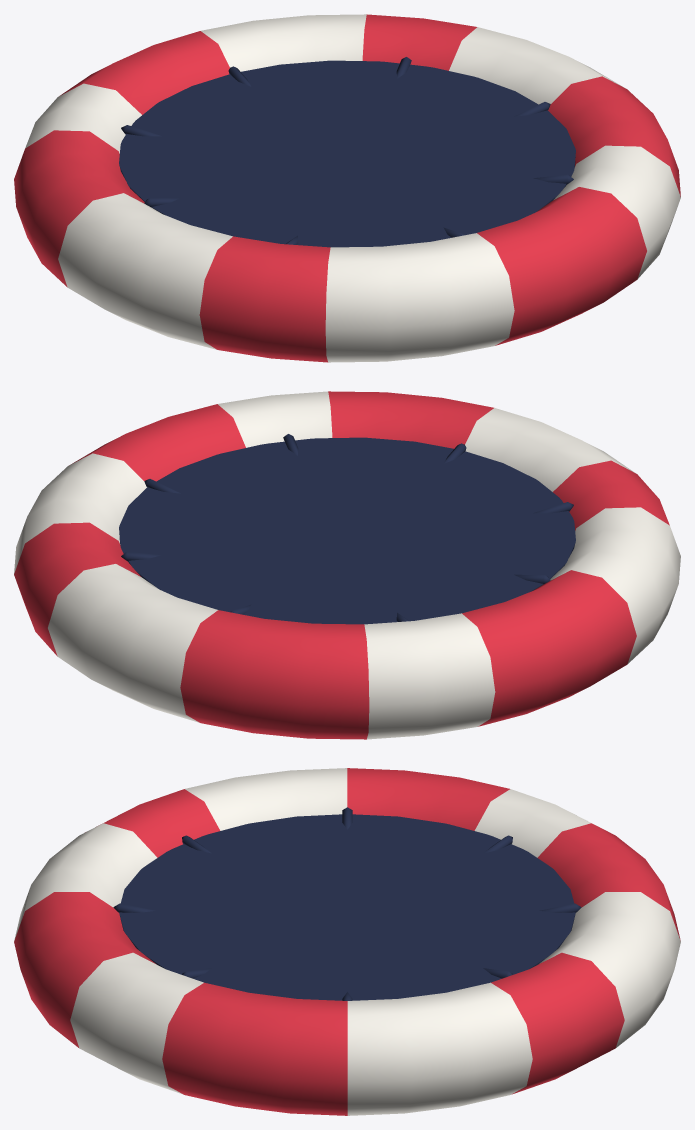
File: H27_Trampoline.fbx
The picture shows the model from 3 angles, top to bottom: view 1: azimuth 30°, elevation 25°; view 2: azimuth 150°, elevation 25°; view 3: azimuth 270°, elevation 25°; orthographic projection.
Parts seen in each view (by area): view 1: Static, Mat; view 2: Static, Mat; view 3: Static, Mat.
Boxes of the visible parts, box(x1,y1,x2,y2) form: Static: box(14, 14, 680, 362); Mat: box(119, 60, 575, 247); Static: box(14, 391, 680, 739); Mat: box(119, 437, 575, 624); Static: box(14, 768, 680, 1115); Mat: box(119, 814, 575, 1000).
Bounding box in the file's own units: 4.84 × 0.7989 × 4.84.
